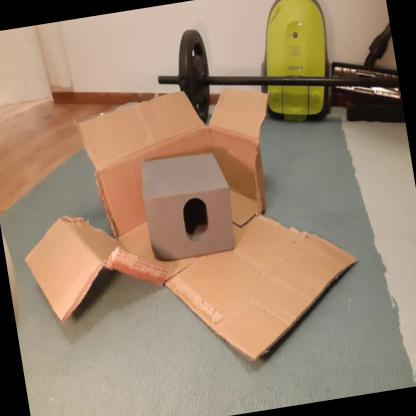CornerCasting: (131, 140, 243, 275)
